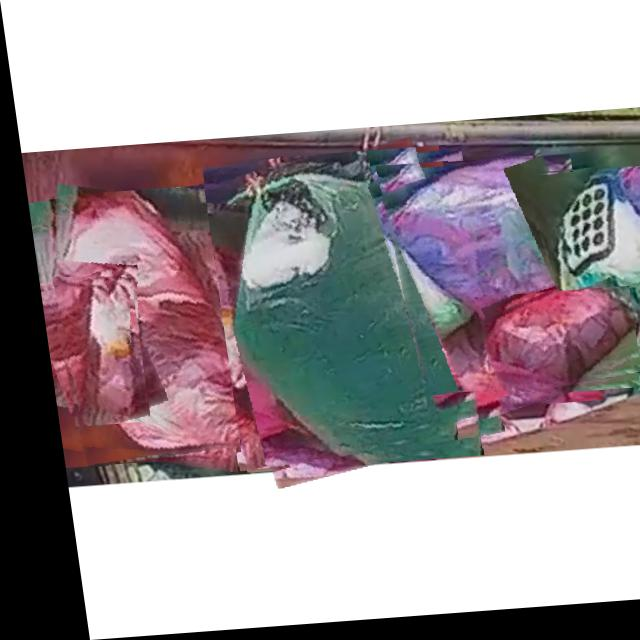general_trashbag: (205, 156, 470, 462), (549, 176, 640, 337)
other_trashbag: (381, 164, 612, 388), (45, 192, 227, 455), (476, 297, 623, 394), (68, 278, 136, 427)
